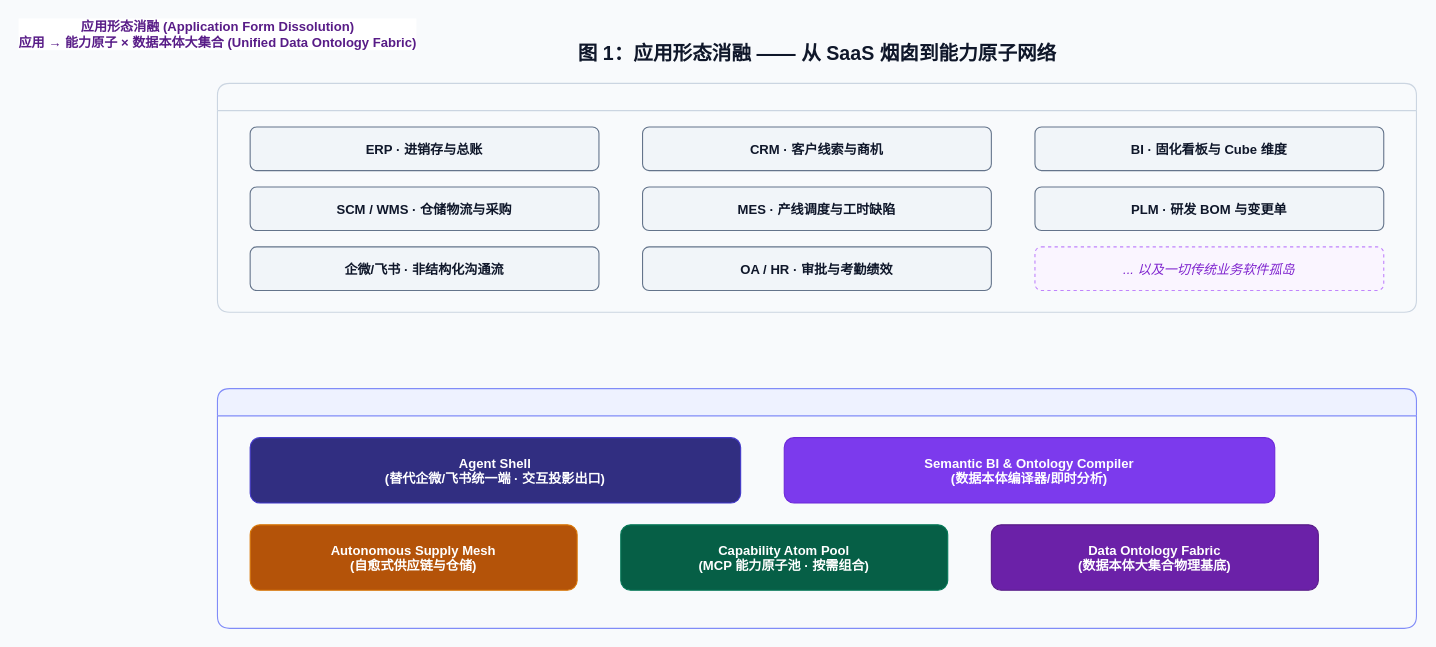
Some shapes in this 1436 by 647 pixel diagram are drawn without their labels. Each missing label, with the box of its shape:
Agent-Native 企业自愈中枢 (能力原子按需组合 · 交互投影即用即散): (216, 387, 1416, 628)
传统被动企业软件烟囱 (割裂在各类 ERP/CRM/SCM/企微 内部的数据碎块): (216, 82, 1416, 312)
